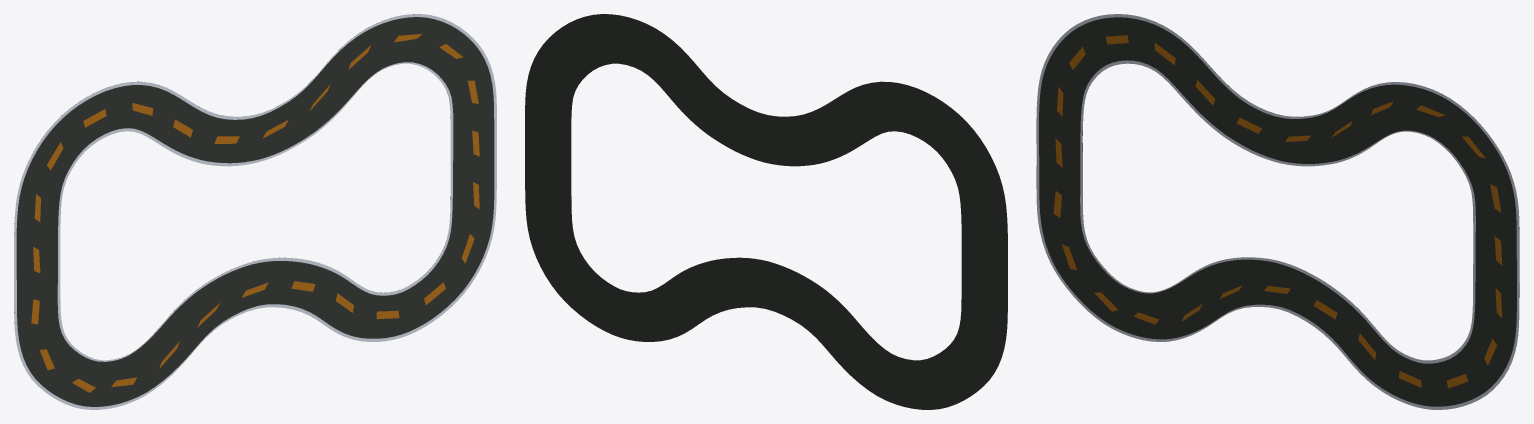
The model's file is track.obj.
3 renders of one model, left to right at view 1: azimuth 30°, elevation 25°; view 2: azimuth 150°, elevation 25°; view 3: azimuth 330°, elevation 25°, orthographic.
Size of the model in its own units: 6.35 by 4.06 by 0.002.
